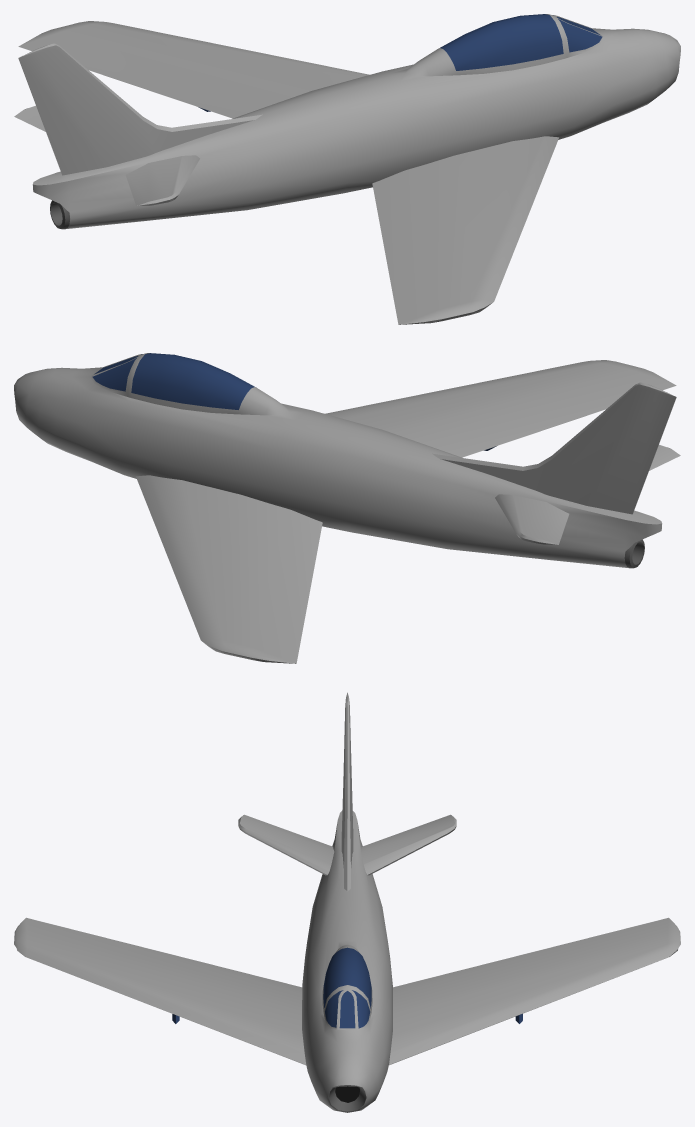
The model's file is sabre.glb.
3 views of the same model, one above another, from view 1: azimuth 30°, elevation 25°; view 2: azimuth 150°, elevation 25°; view 3: azimuth 270°, elevation 25° (orthographic). The views are drawn at different scales.
Visible parts, largest first — view 1: f86_saber; view 2: f86_saber; view 3: f86_saber.
Boxes of the visible parts, left/top/right/bottom form: f86_saber: left=14, top=14, right=680, bottom=324; f86_saber: left=14, top=353, right=680, bottom=663; f86_saber: left=14, top=692, right=680, bottom=1112.
Size of the model in its own units: 10.72 by 3.27 by 11.11.
